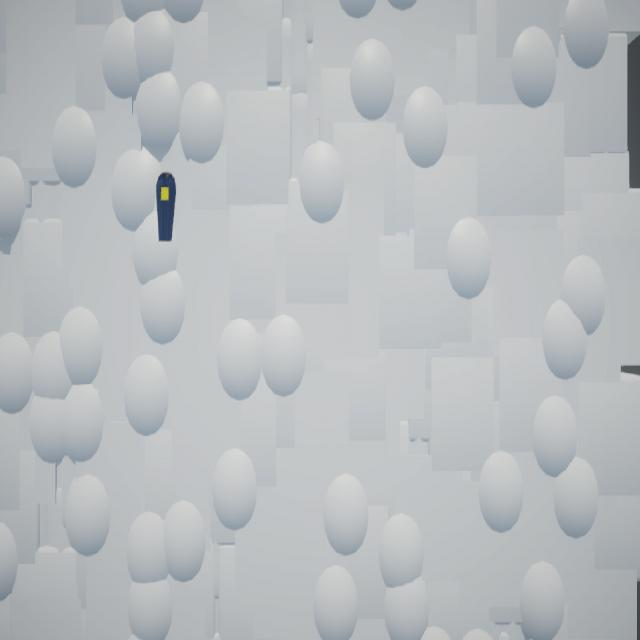handle_folk: (157, 174, 177, 243)
